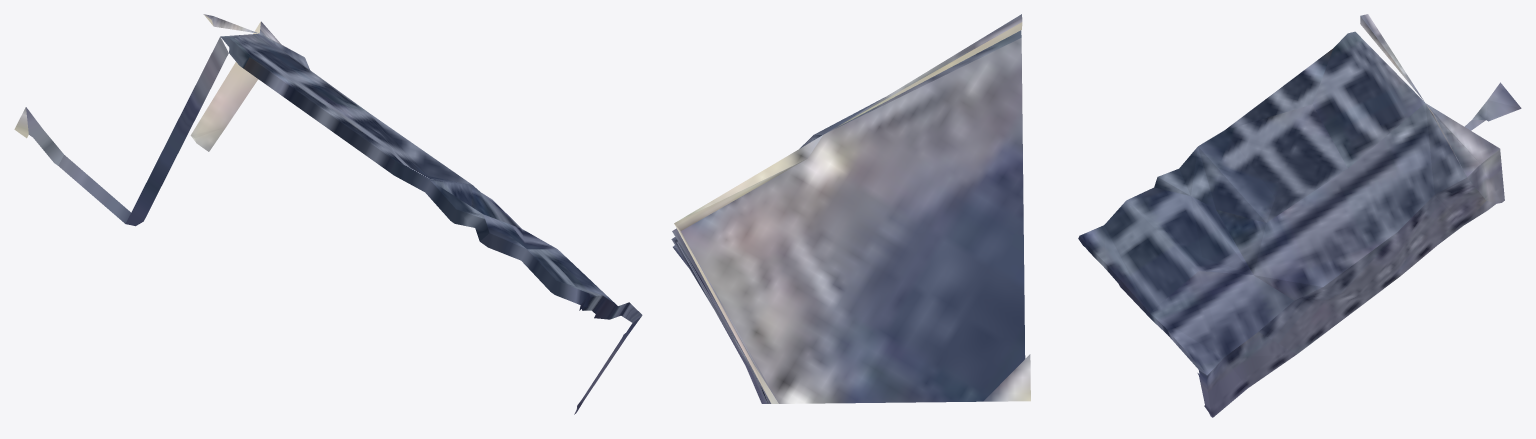
3 renders of one model, left to right at view 1: azimuth 30°, elevation 25°; view 2: azimuth 150°, elevation 25°; view 3: azimuth 270°, elevation 25°, orthographic. The views are drawn at different scales.
Size of the model in its own units: 29.42 by 25.9 by 33.98.
Materials: 1 (1 with a texture image).
